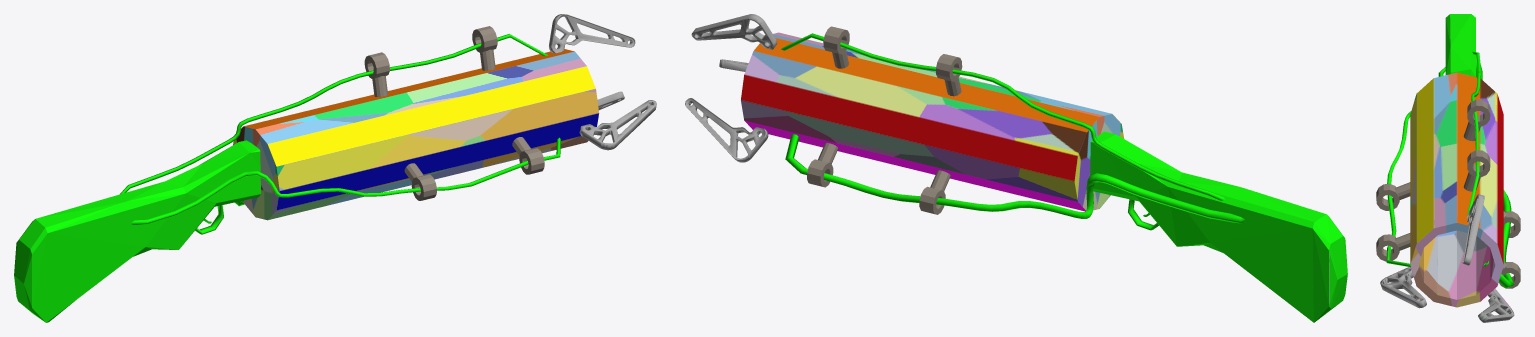
File: Gun.gltf
3 views of the same model, side by side, from view 1: azimuth 30°, elevation 25°; view 2: azimuth 150°, elevation 25°; view 3: azimuth 270°, elevation 25° (orthographic). The views are drawn at different scales.
Visible parts, largest first — view 1: Gun; view 2: Gun; view 3: Gun.
Part boxes in pixels (x1,y1,x2,y2): Gun: (14,14,656,322); Gun: (685,14,1347,322); Gun: (1376,14,1520,322).
Size of the model in its own units: 119 by 31.81 by 24.99.
1 material, 1 textured.
